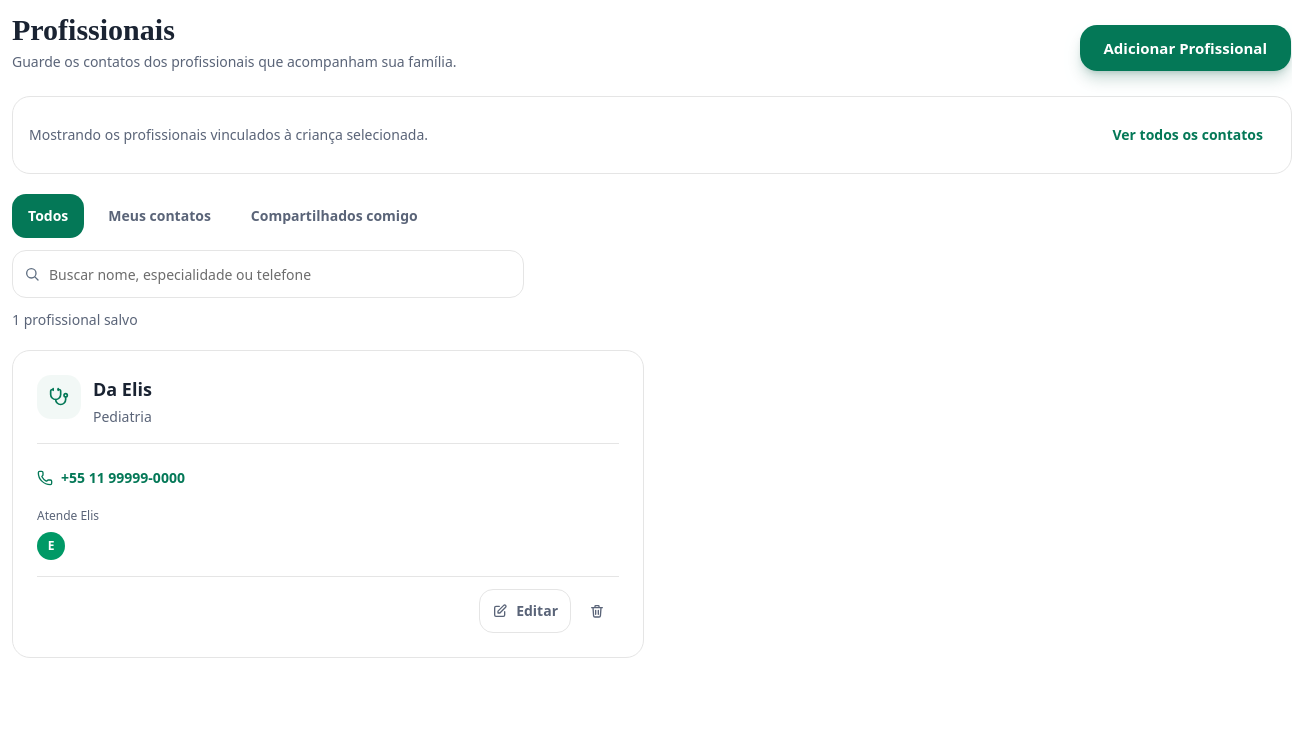
Test case: filters the selected child and returns to personal contacts explicitly
Expected: the heading "Da Elis" is shown, [93, 375, 152, 403]
Expected: the text "Contato pessoal" is not shown
Click the button "Ver todos os contatos" at (1188, 135), box [1100, 113, 1275, 157]
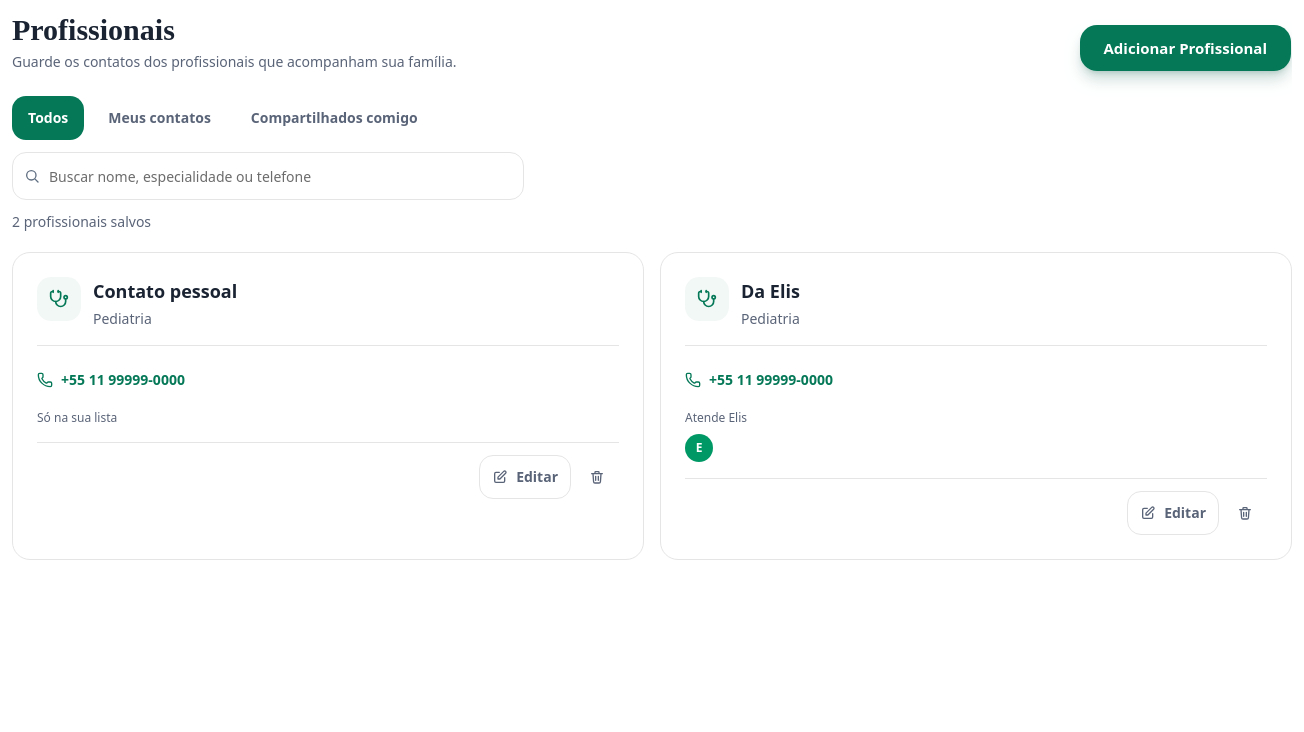
Expected: the heading "Contato pessoal" is shown, [93, 277, 237, 305]
